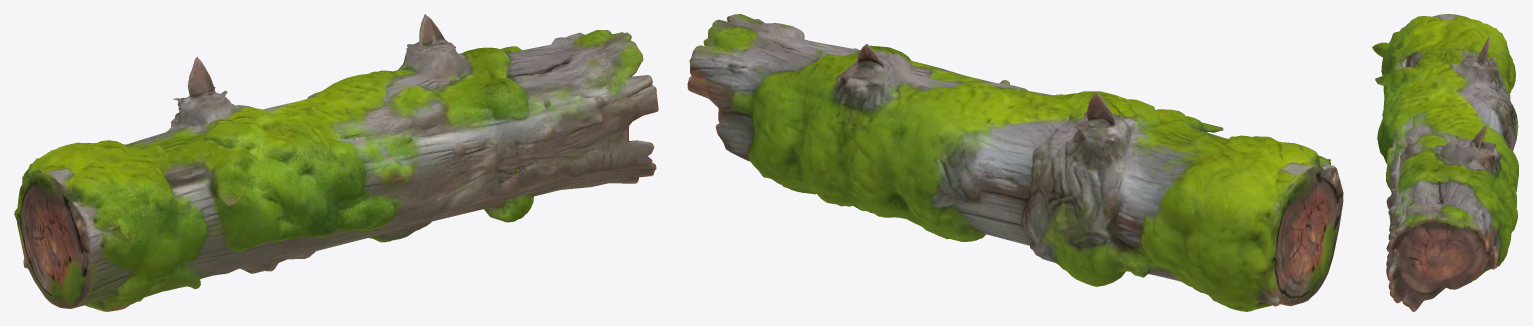
File: prop-fallen-log.glb
3 renders of one model, left to right at view 1: azimuth 30°, elevation 25°; view 2: azimuth 150°, elevation 25°; view 3: azimuth 270°, elevation 25°, orthographic. The views are drawn at different scales.
Size of the model in its own units: 1.91 by 0.6151 by 0.5647.
Materials: 1 (1 with a texture image).
